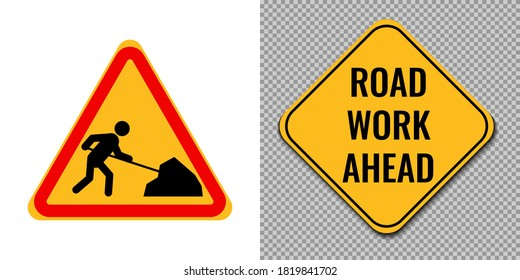Road_workahead: (278, 19, 498, 239), (26, 36, 236, 221)
